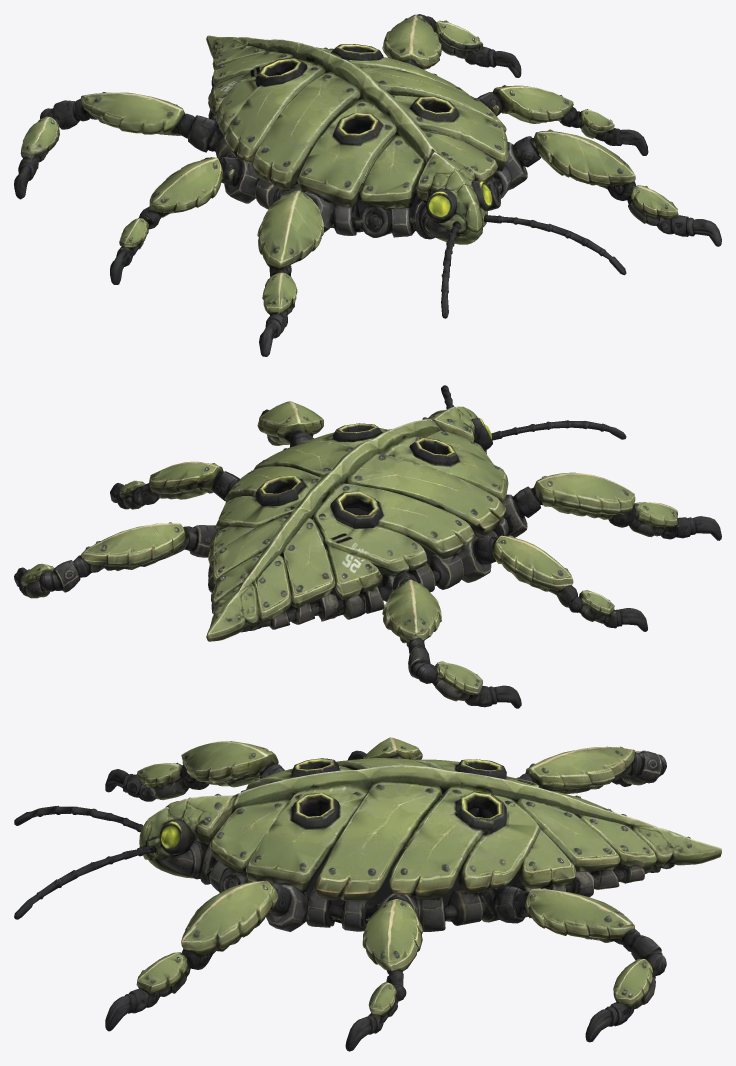
Rendered from leaf-insect.glb.
The picture shows the model from 3 angles, top to bottom: view 1: azimuth 30°, elevation 25°; view 2: azimuth 150°, elevation 25°; view 3: azimuth 270°, elevation 25°; orthographic projection. The views are drawn at different scales.
Bounding box in the file's own units: 3.21 × 0.7761 × 3.4.
1 material, 1 textured.
